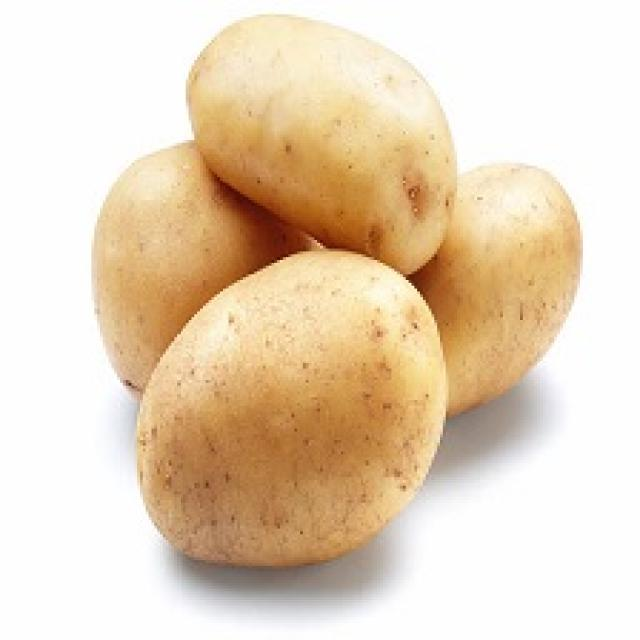healthy: (80, 6, 592, 580)
